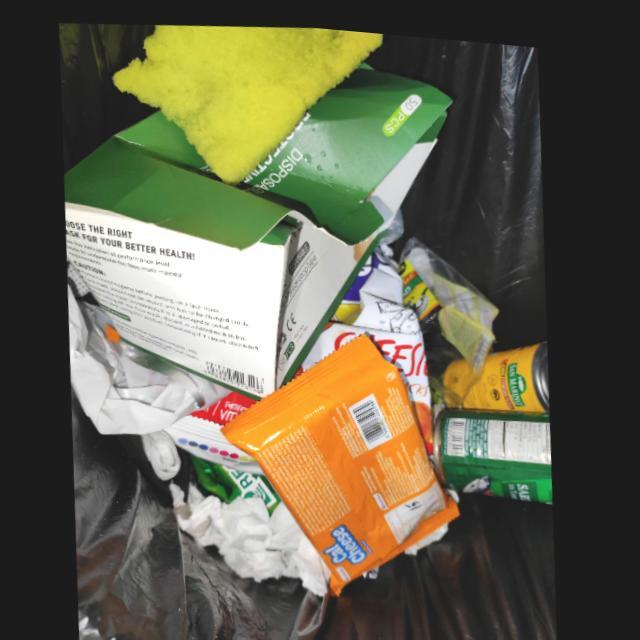aluminum: (438, 404, 556, 493), (442, 330, 553, 405)
cardboard: (65, 54, 454, 393)
food_wrapper: (224, 328, 463, 589), (294, 310, 440, 461), (399, 229, 504, 368), (191, 443, 317, 537), (170, 386, 269, 471)
paper: (171, 476, 334, 589)
